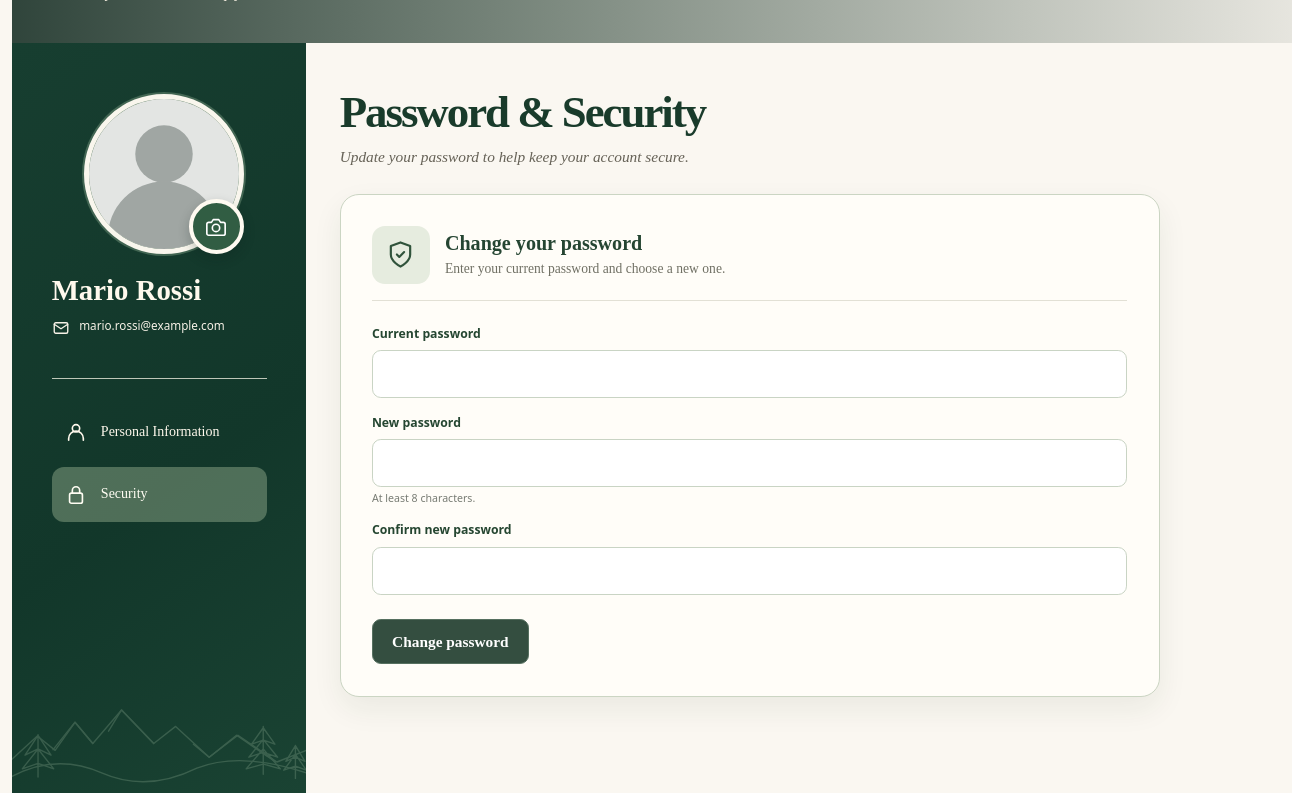
Test: MyAccountPage Component Integration & Coverage Tests › shows validation errors for password length and mismatch or missing current password
Earlier steps of the test are not shown.
(page scrolled)
Note: Missing current password
Submit the form labelled "Current password", box [372,318,1127,664]
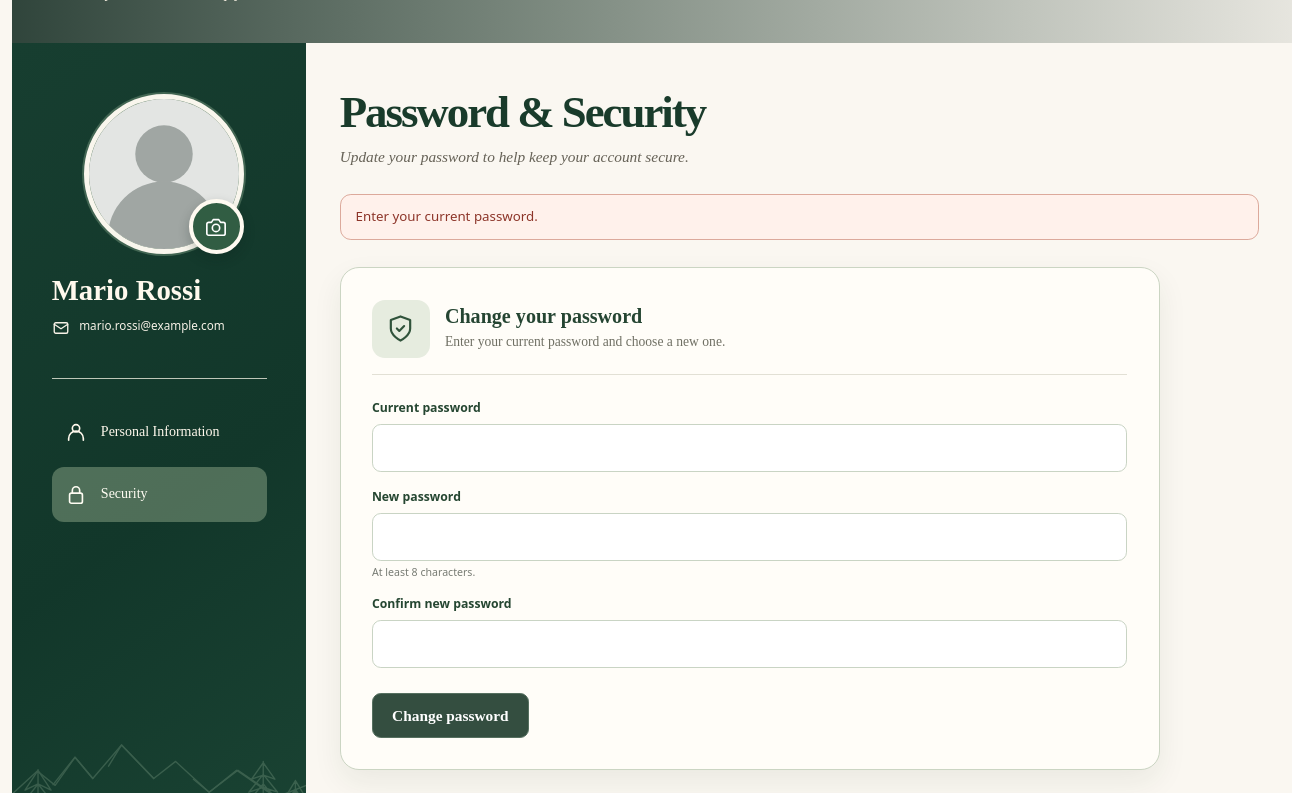
Check: the text "Enter your current password." is shown, box [340,194,1259,240]
Note: Short password
Type "OldPassword123" into the password field labelled "Current password". click: (750, 448)
box: [372,424,1127,472]
Type "short" into the password field labelled "New password". click: (750, 537)
box: [372,513,1127,561]
Type "short" into the password field labelled "Confirm new password". click: (750, 644)
box: [372,620,1127,668]
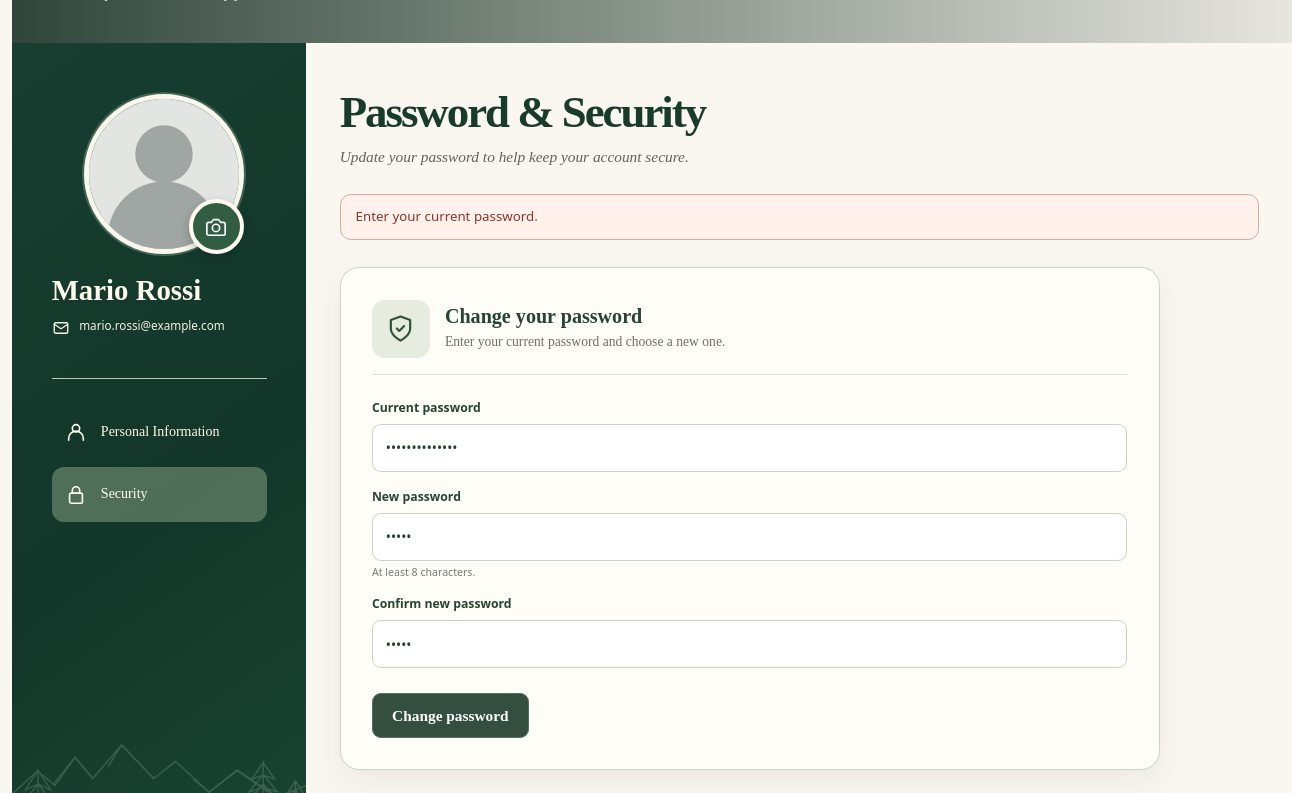
Submit the form labelled "Current password", box [372,391,1127,738]
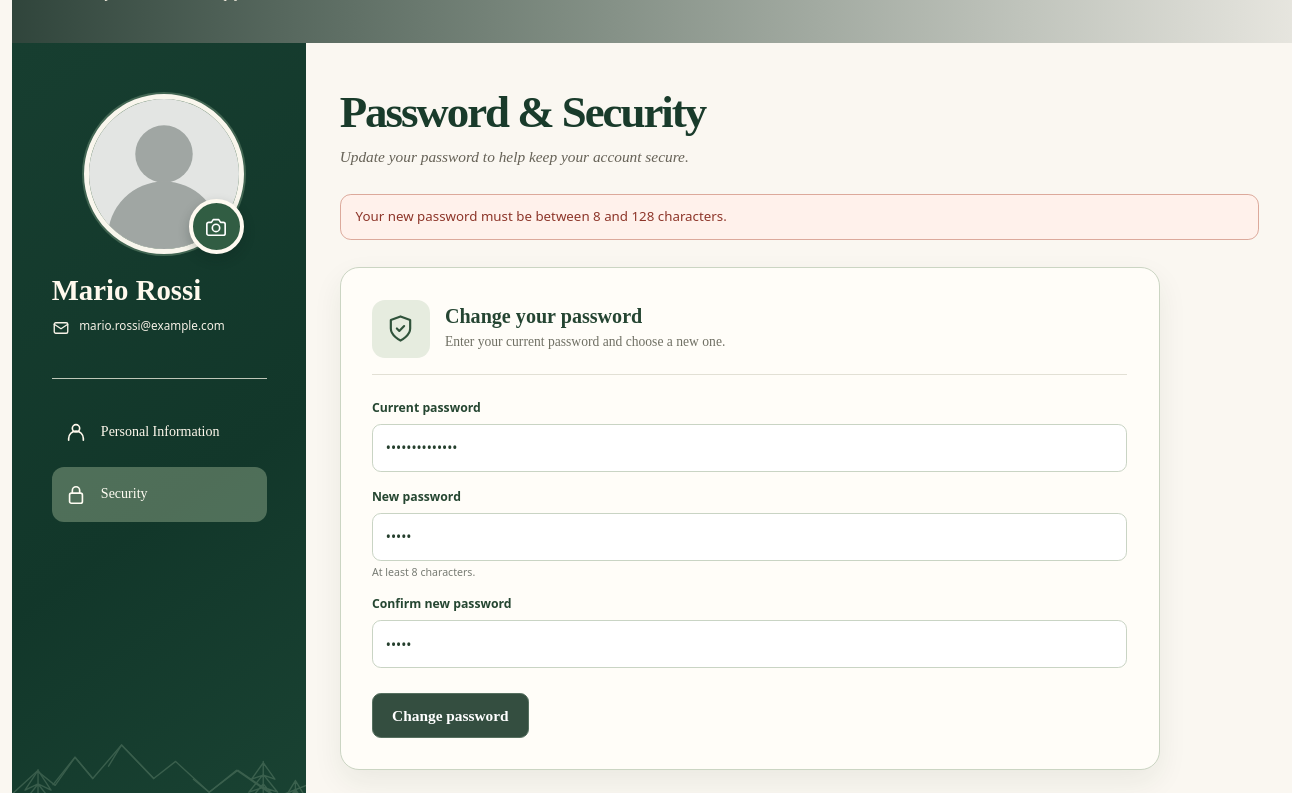
Check: the text "Your new password must be between 8 and 128 characters." is shown, box [340,194,1259,240]
Note: Password mismatch
Type "ValidPassword123!" into the password field labelled "New password". click: (750, 537)
box: [372,513,1127,561]
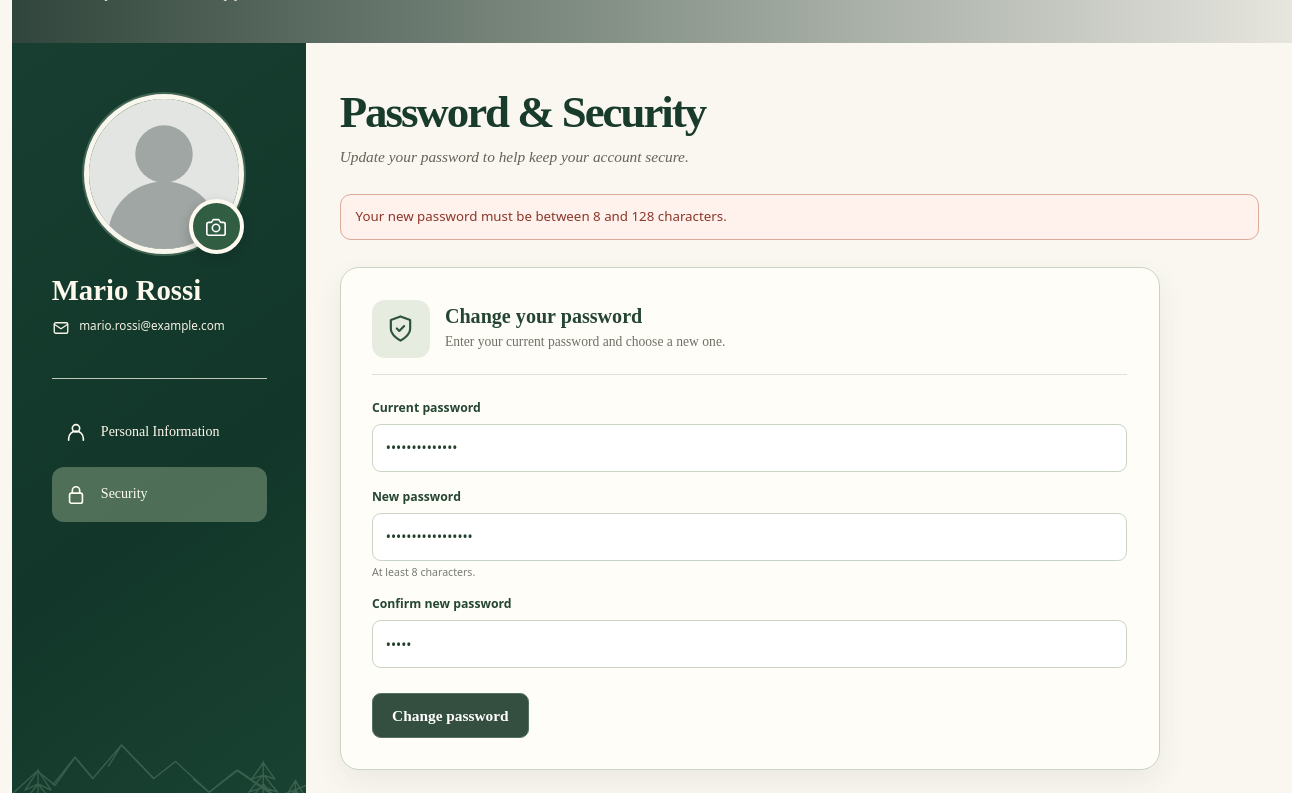
Type "DifferentPassword123!" into the password field labelled "Confirm new password". click: (750, 644)
box: [372,620,1127,668]
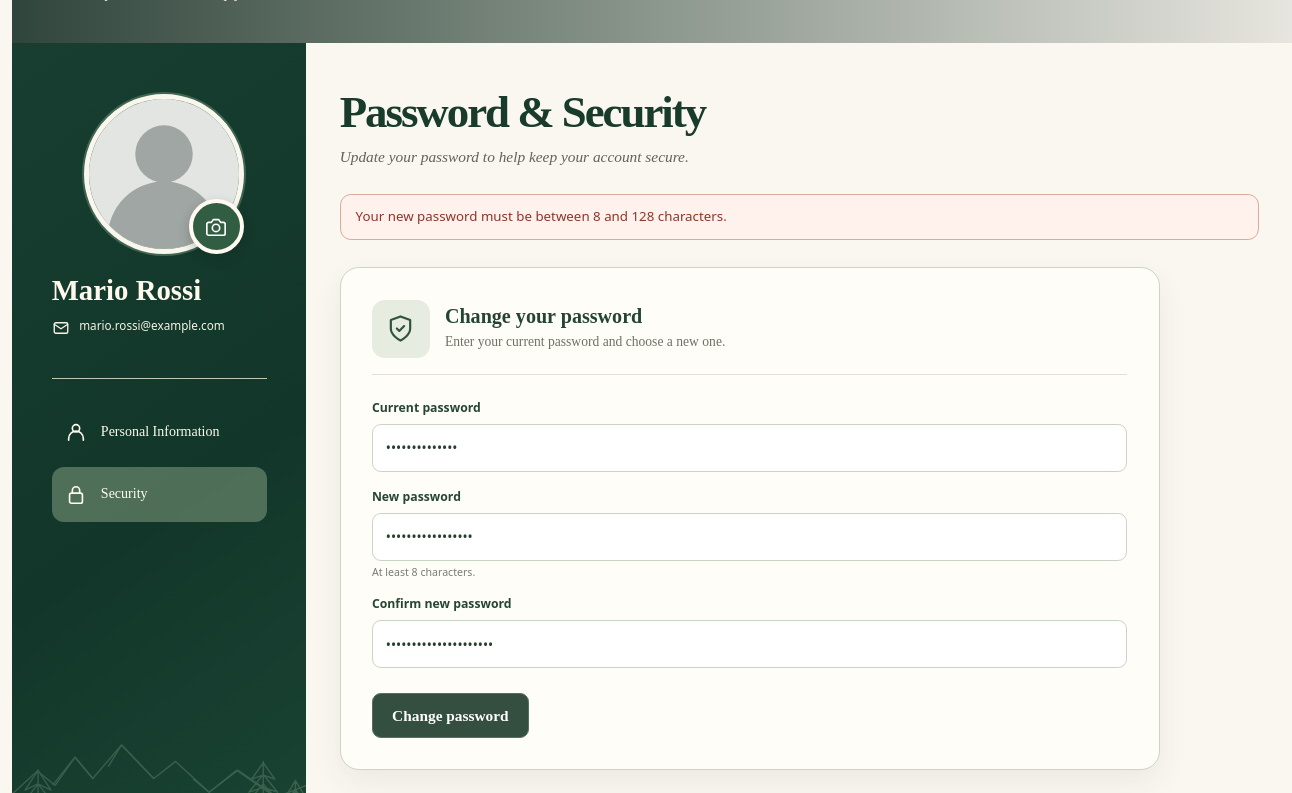
Submit the form labelled "Current password", box [372,391,1127,738]
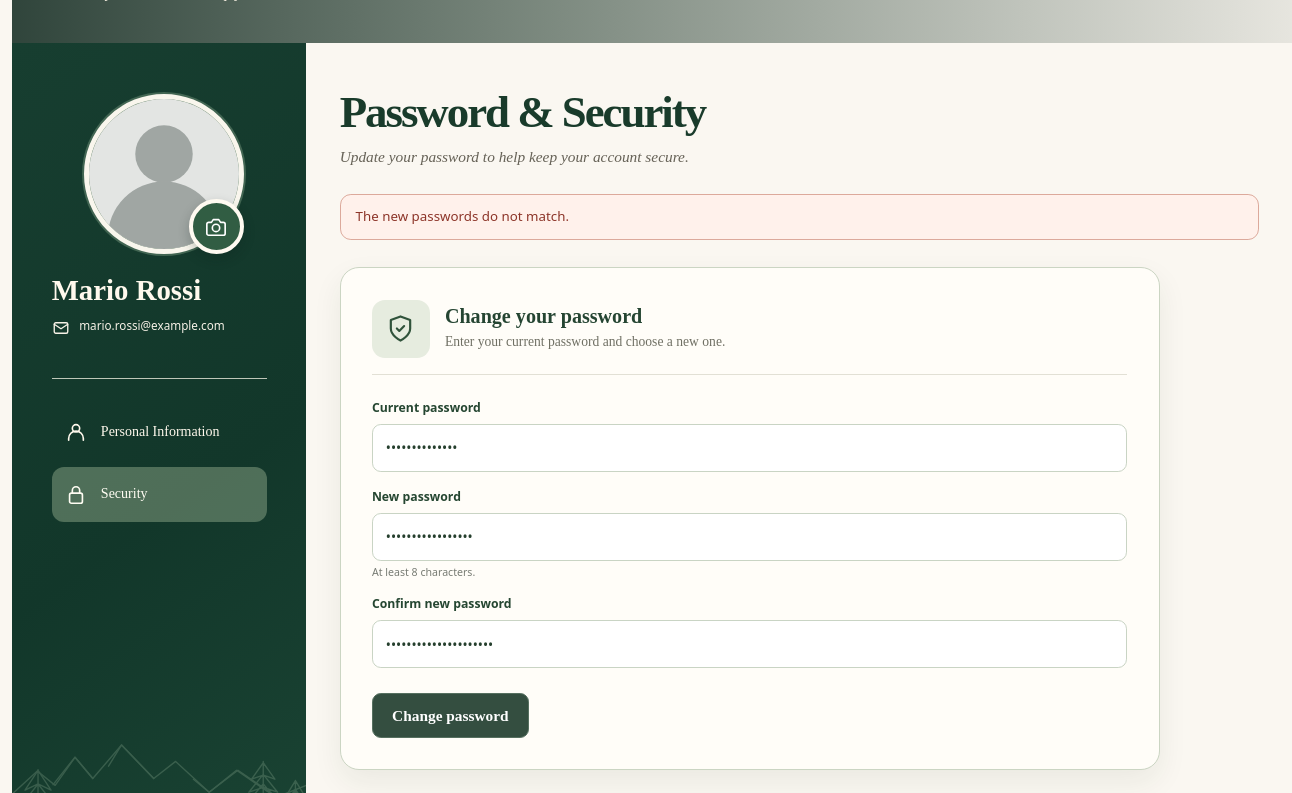
Check: the text "The new passwords do not match." is shown, box [340,194,1259,240]
